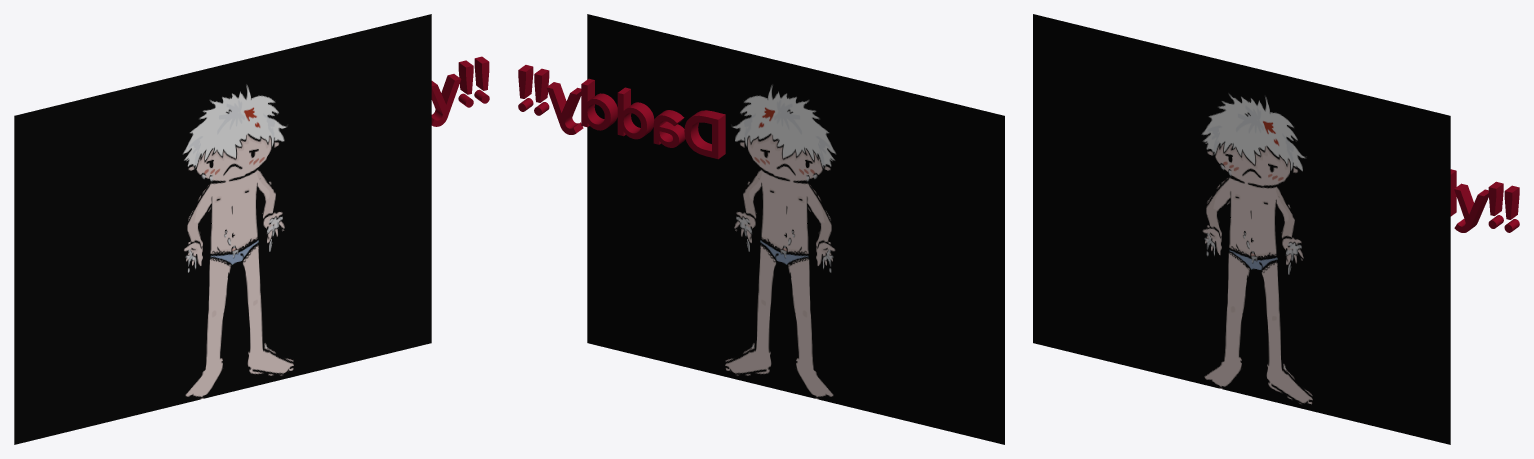
Rendered from toyanb.glb.
3 views of the same model, side by side, from view 1: azimuth 30°, elevation 25°; view 2: azimuth 150°, elevation 25°; view 3: azimuth 330°, elevation 25° (orthographic).
Parts seen in each view (by area): view 1: mesh_id91, mesh_id87; view 2: mesh_id91, mesh_id87; view 3: mesh_id91, mesh_id87.
Part boxes in pixels (left/top/right/bottom): mesh_id91: left=14, top=14, right=431, bottom=444; mesh_id87: left=431, top=56, right=489, bottom=126; mesh_id91: left=587, top=14, right=1004, bottom=444; mesh_id87: left=518, top=65, right=725, bottom=159; mesh_id91: left=1033, top=14, right=1450, bottom=444; mesh_id87: left=1450, top=169, right=1519, bottom=232.
Bounding box in the file's own units: 0.7055 × 0.4647 × 0.0237.
Materials: 2 (2 with a texture image).
